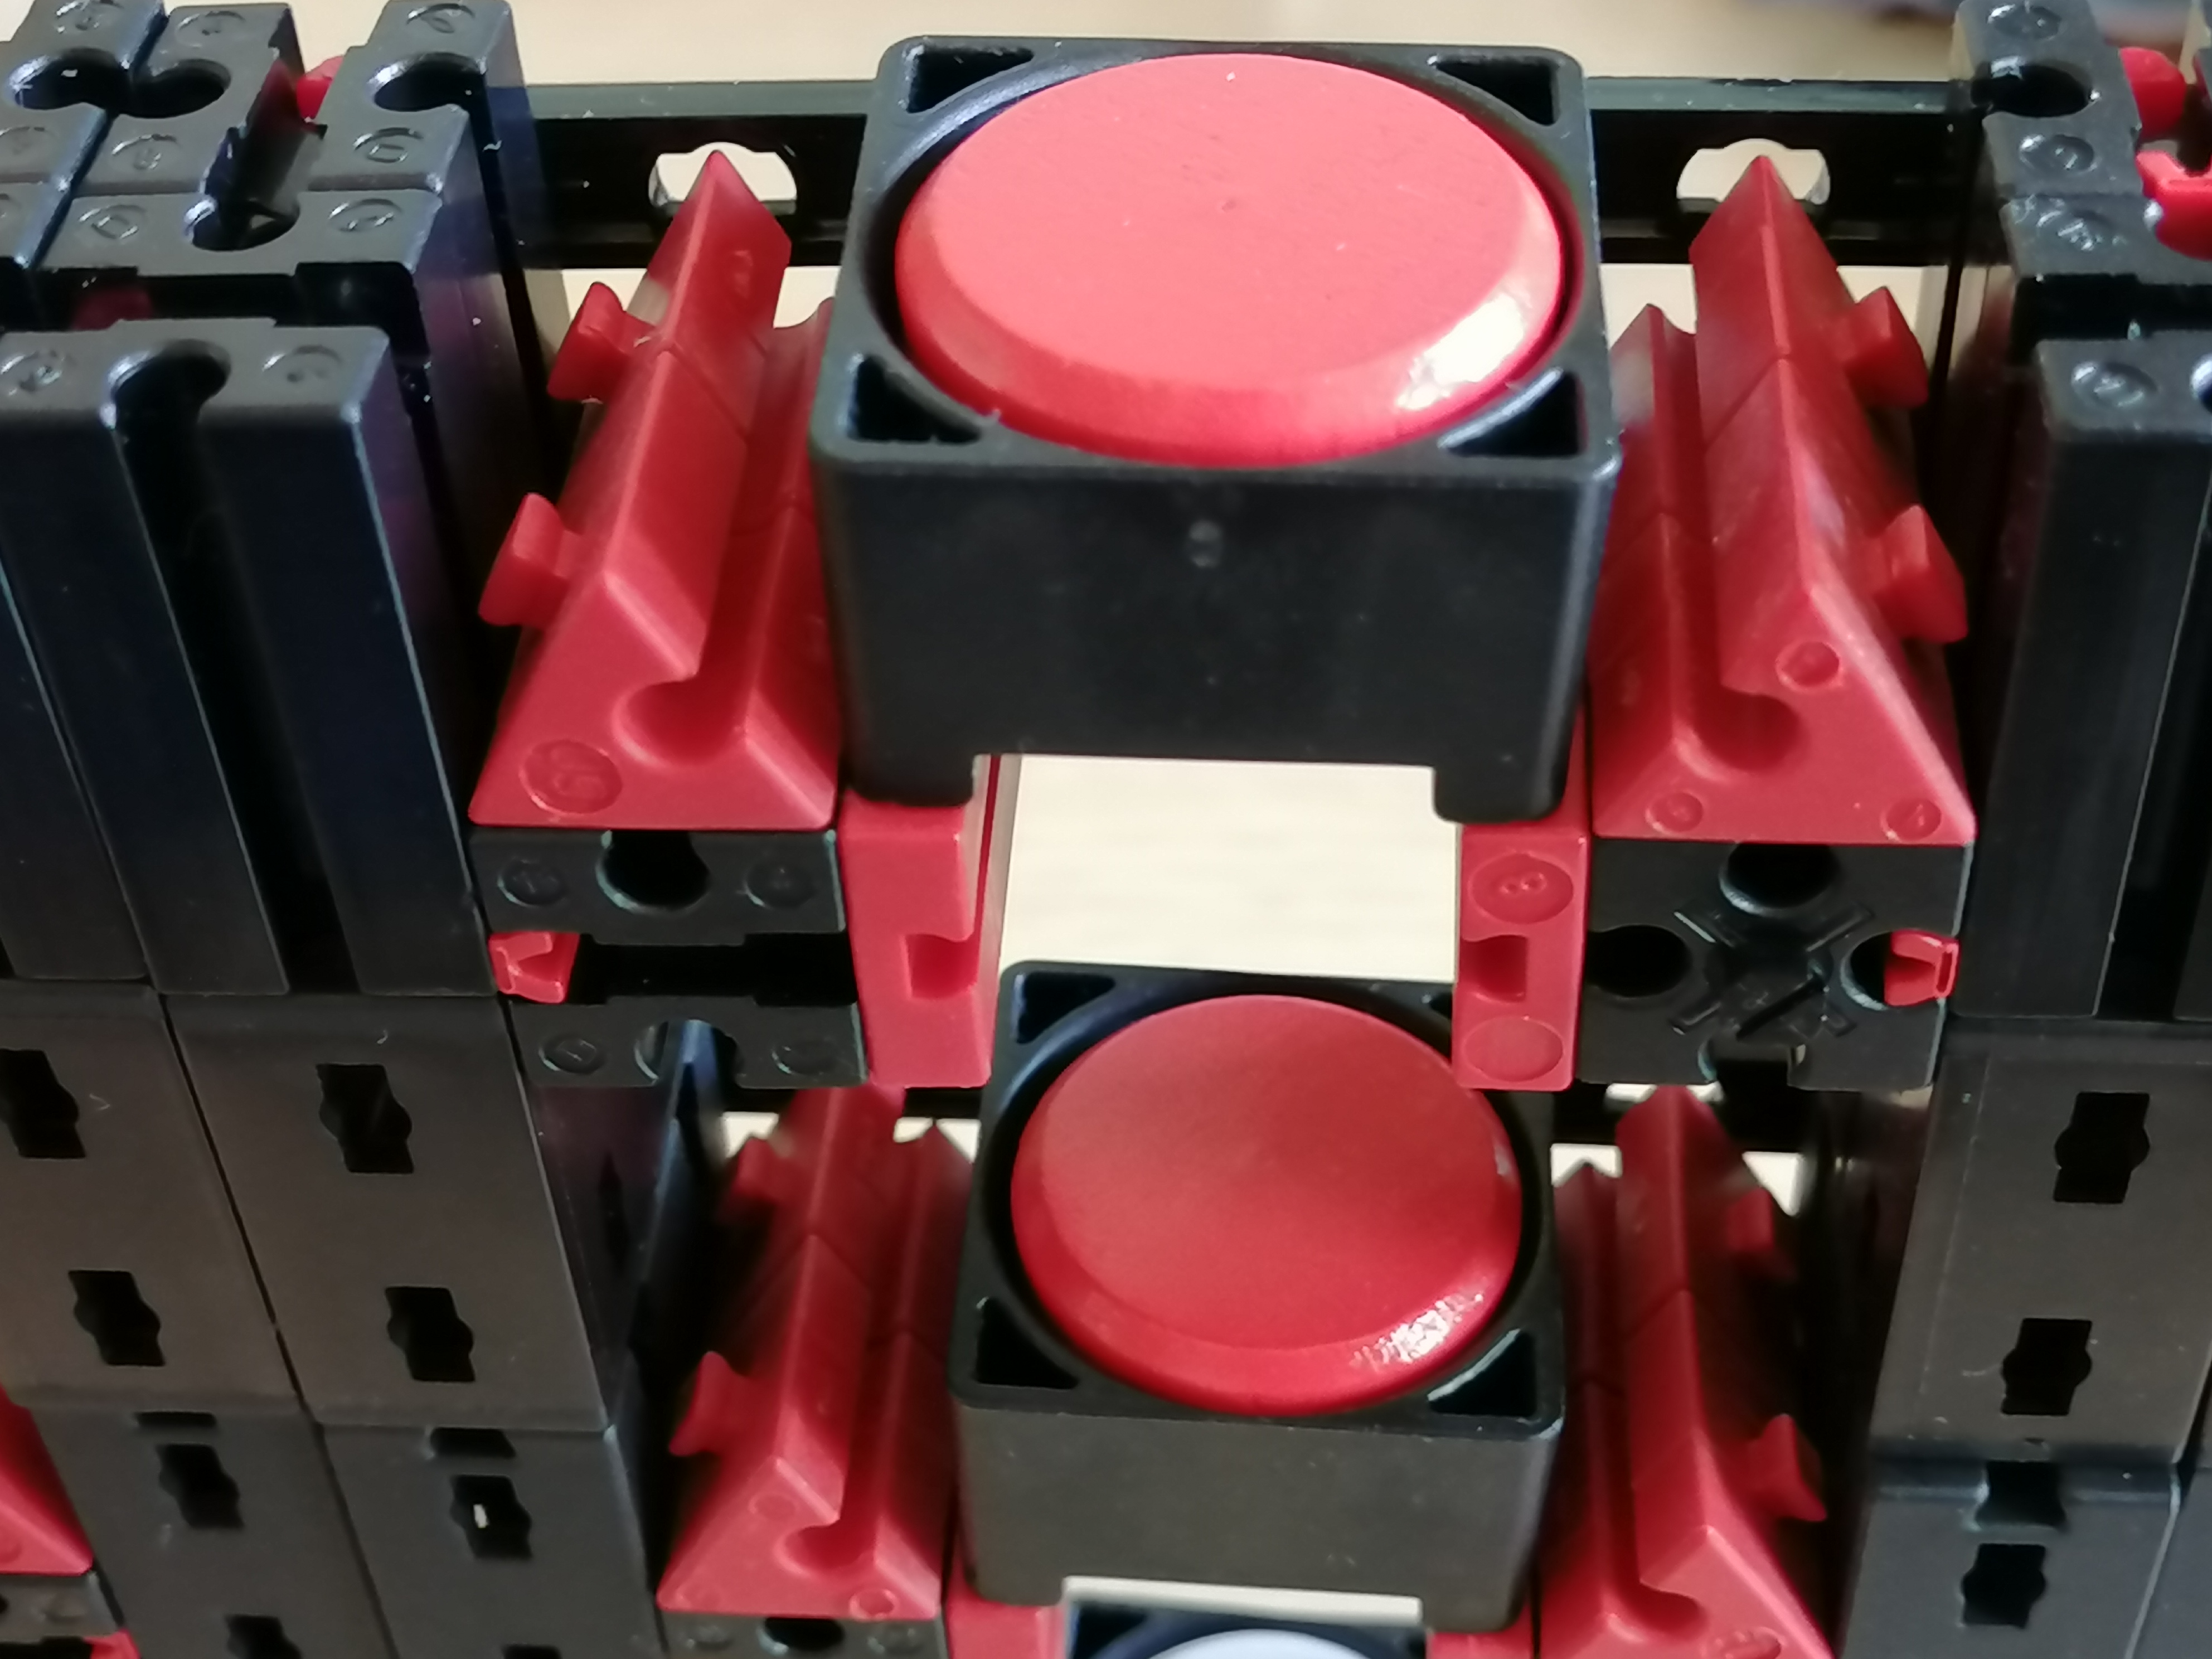Behaelter: (822, 40, 1578, 802), (953, 1082, 1562, 1612)
WerkStueck: (904, 61, 1540, 432), (1033, 999, 1449, 1401)
